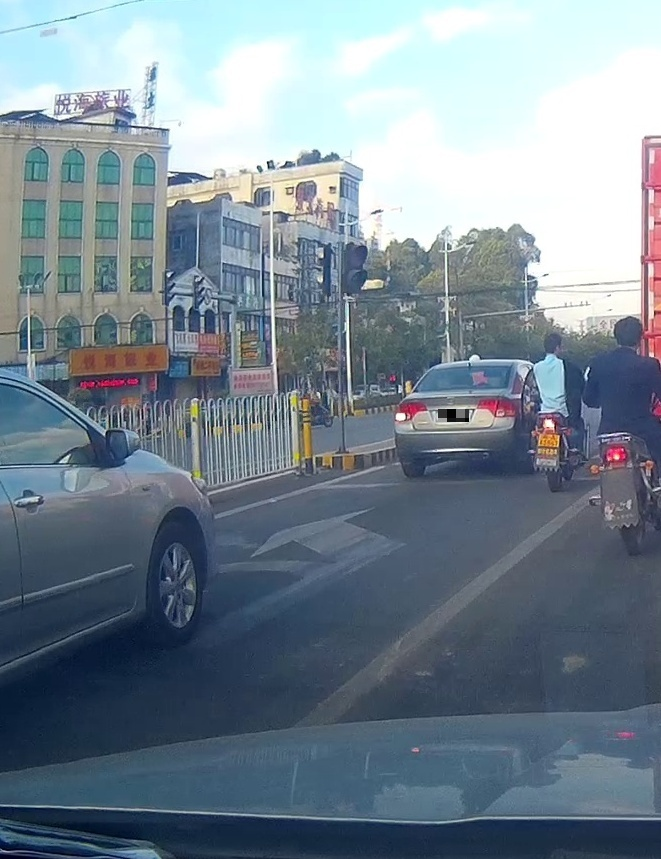L_light: (394, 401, 428, 422)
R_light: (476, 397, 518, 417)
T_light: (461, 365, 482, 370)
day-left: (394, 359, 520, 479)
plate_1: (438, 409, 469, 422)
